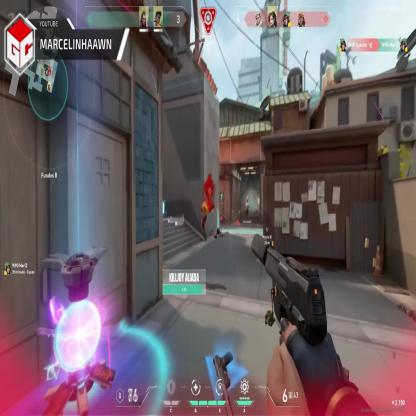enemy: (201, 200, 208, 240)
enemy_head: (204, 200, 207, 206)
